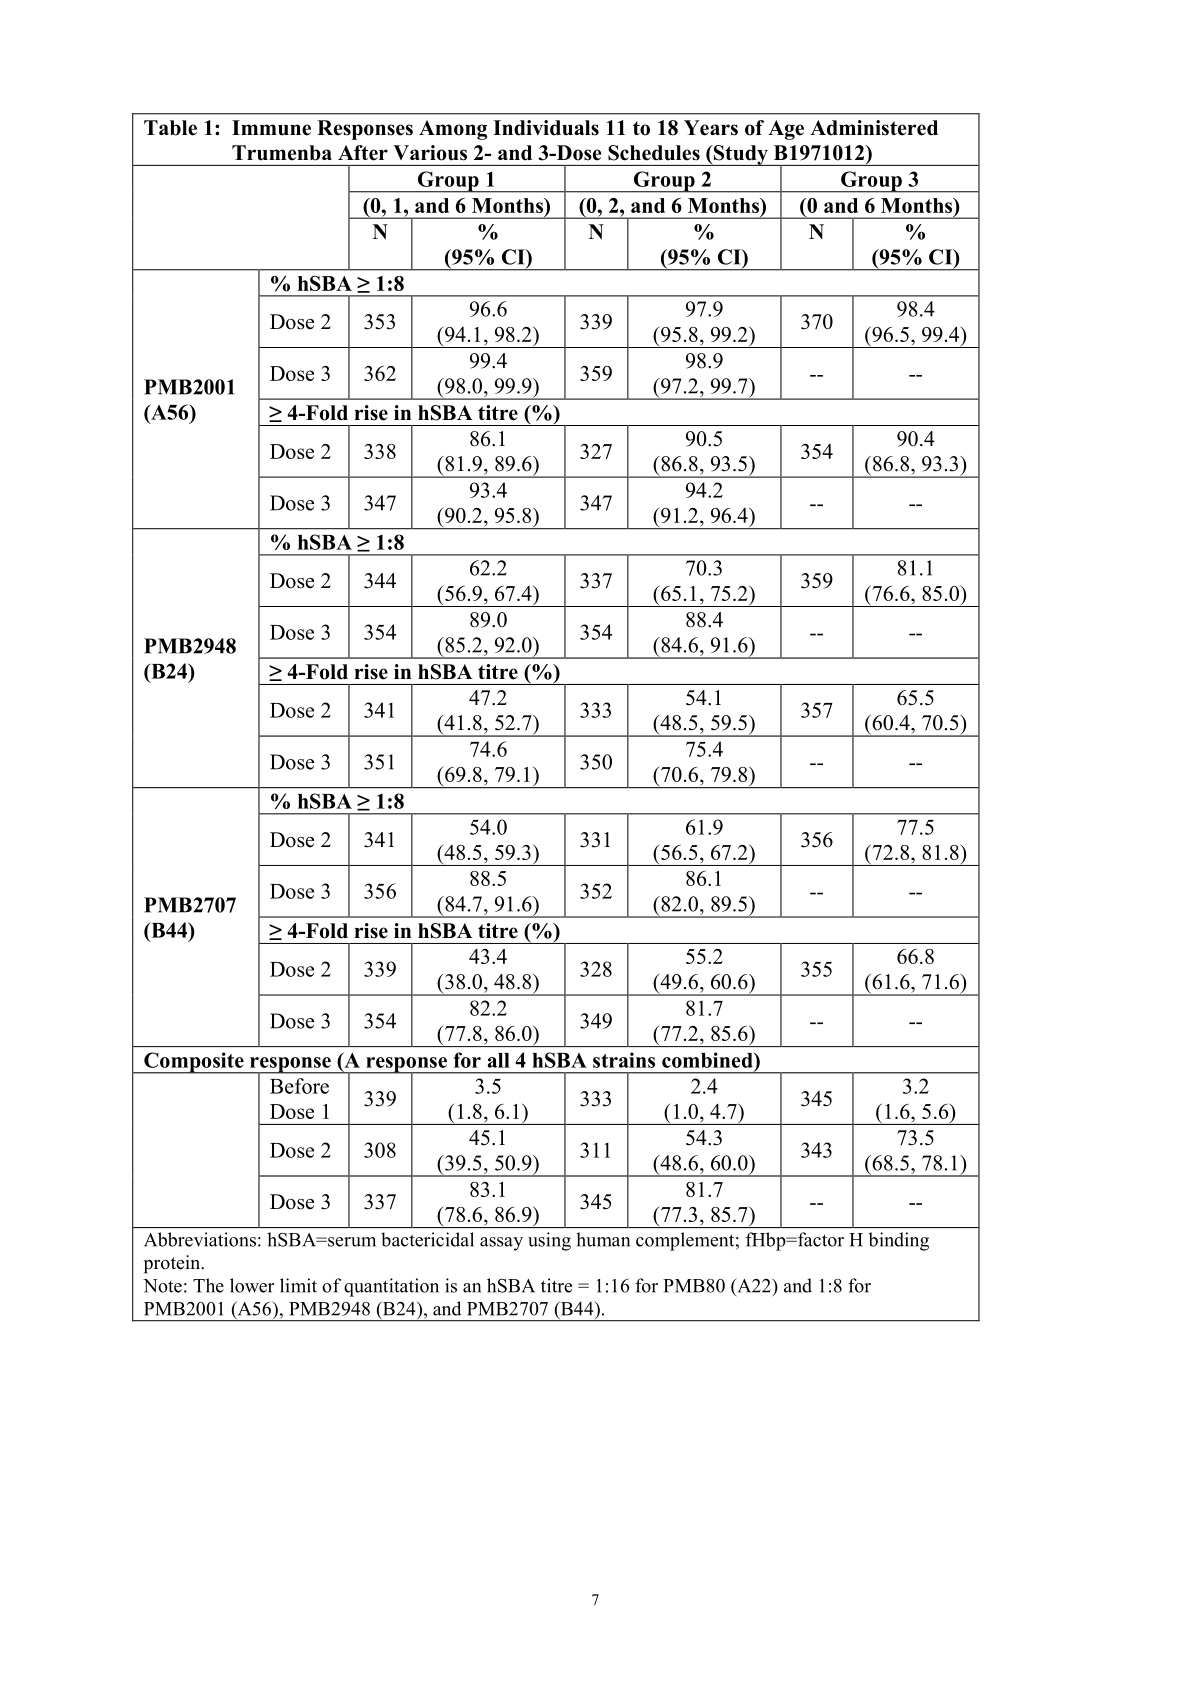merged_cells: (131, 112, 981, 1321)
